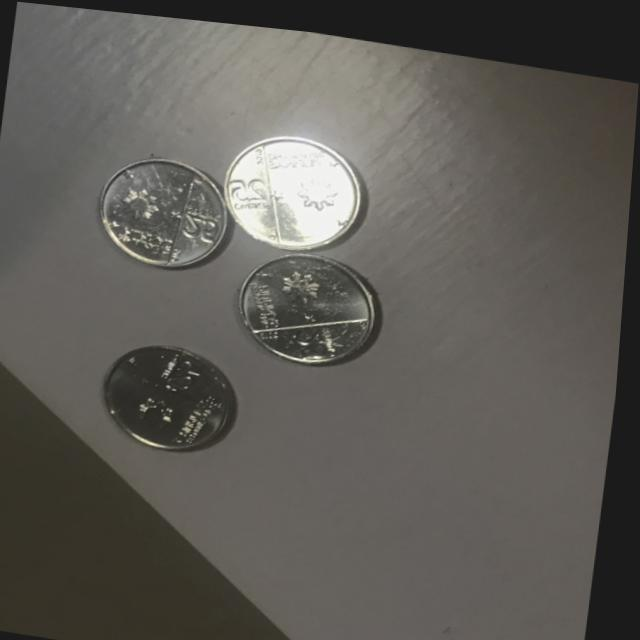25Cent_New_Front: (233, 133, 363, 234), (115, 169, 227, 259)
